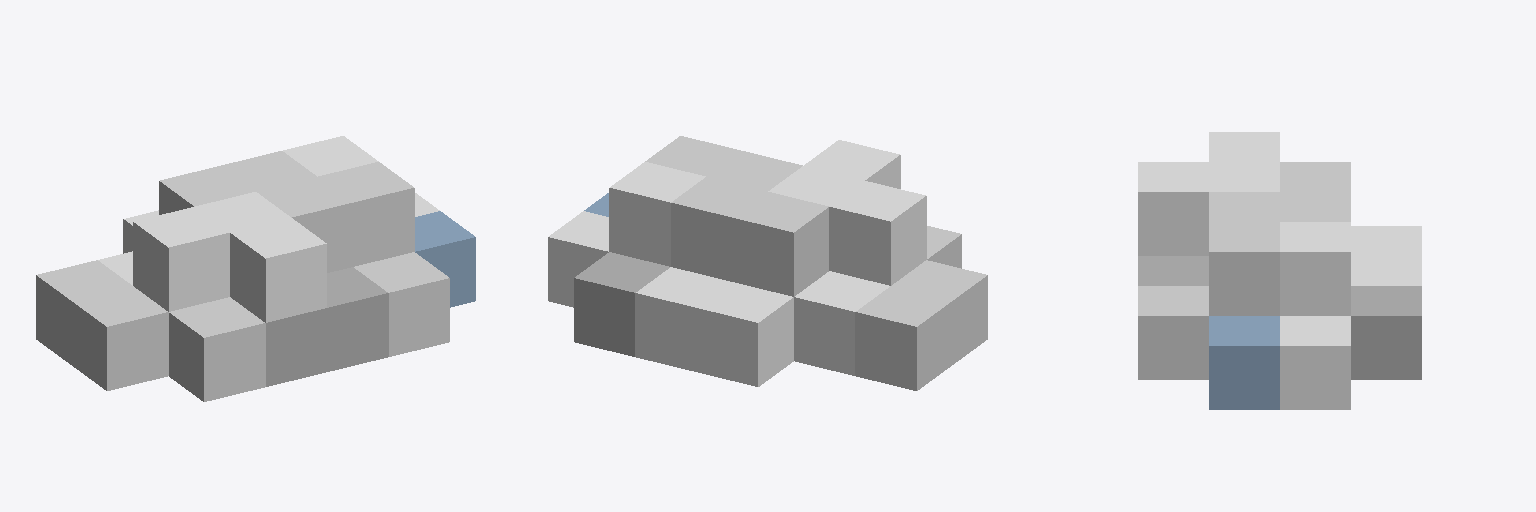
The picture shows the model from 3 angles: view 1: azimuth 30°, elevation 25°; view 2: azimuth 150°, elevation 25°; view 3: azimuth 270°, elevation 25°; orthographic projection.
Parts seen in each view (by area): view 1: object 1; view 2: object 1; view 3: object 1.
Boxes of the visible parts, box(x1,y1,x2,y2) form: object 1: box(36, 136, 475, 401); object 1: box(548, 136, 987, 390); object 1: box(1138, 132, 1421, 409).
Bounding box in the file's own units: 0.6 × 0.2 × 0.4.
1 materials, 1 textured.